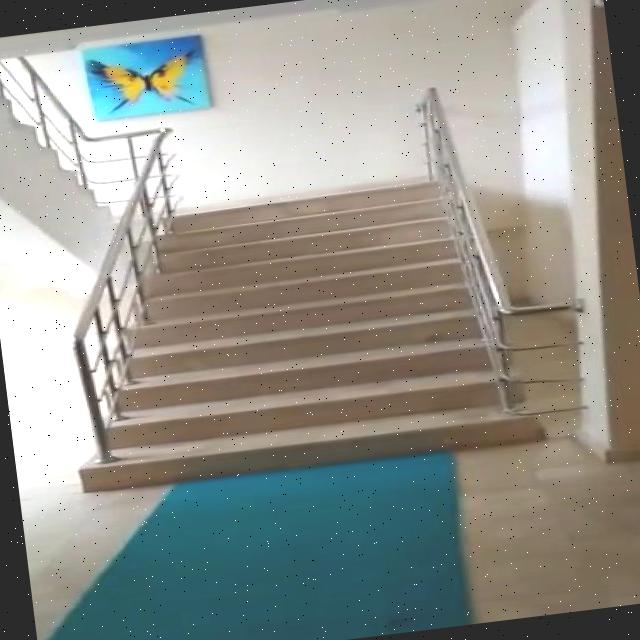stairs: (50, 166, 568, 495)
